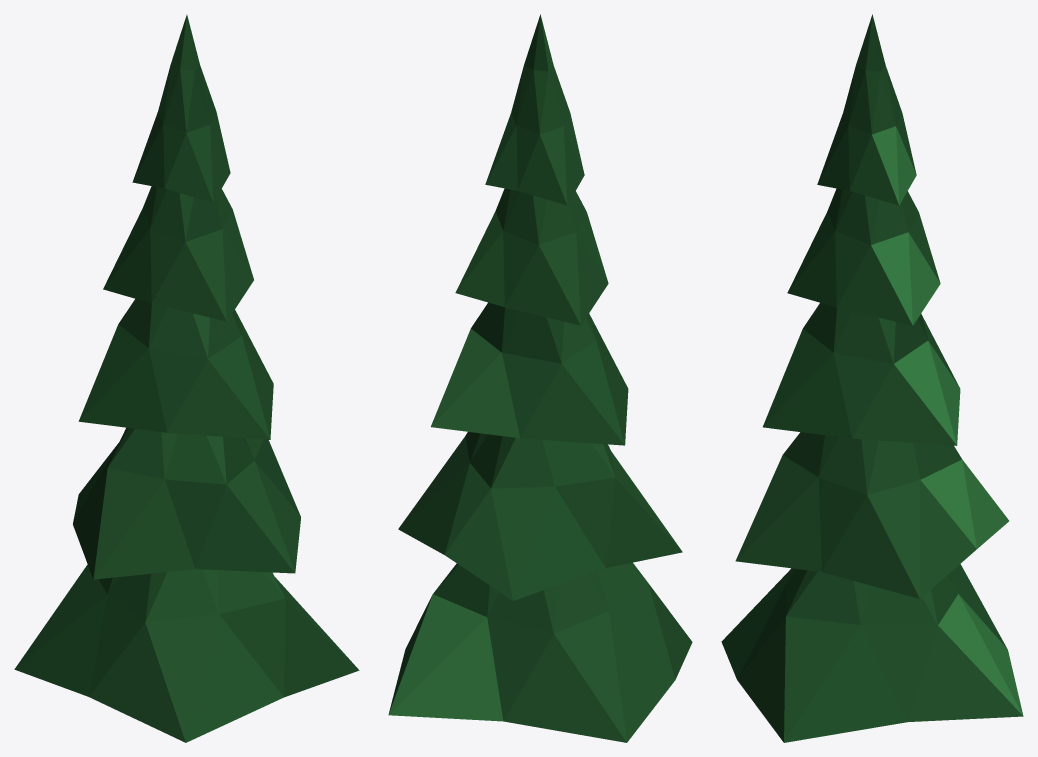
File: Leaves_B.glb
3 views of the same model, side by side, from view 1: azimuth 30°, elevation 25°; view 2: azimuth 150°, elevation 25°; view 3: azimuth 270°, elevation 25° (orthographic).
Visible parts, largest first — view 1: Leaves; view 2: Leaves; view 3: Leaves.
Part boxes in pixels (x1,y1,x2,y2): Leaves: (14,15,359,742); Leaves: (388,14,692,742); Leaves: (721,14,1023,742).
Size of the model in its own units: 16.39 by 39.82 by 16.39.
